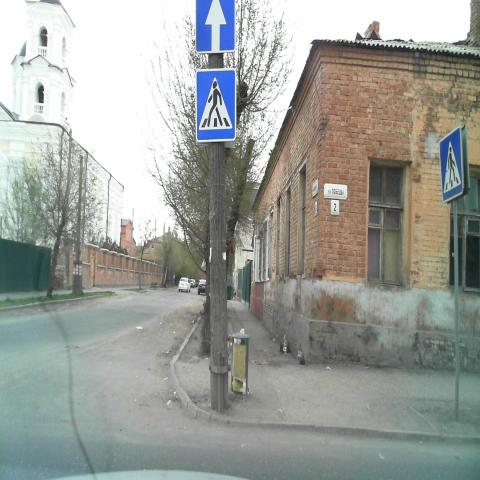5_5: (194, 0, 234, 55)
